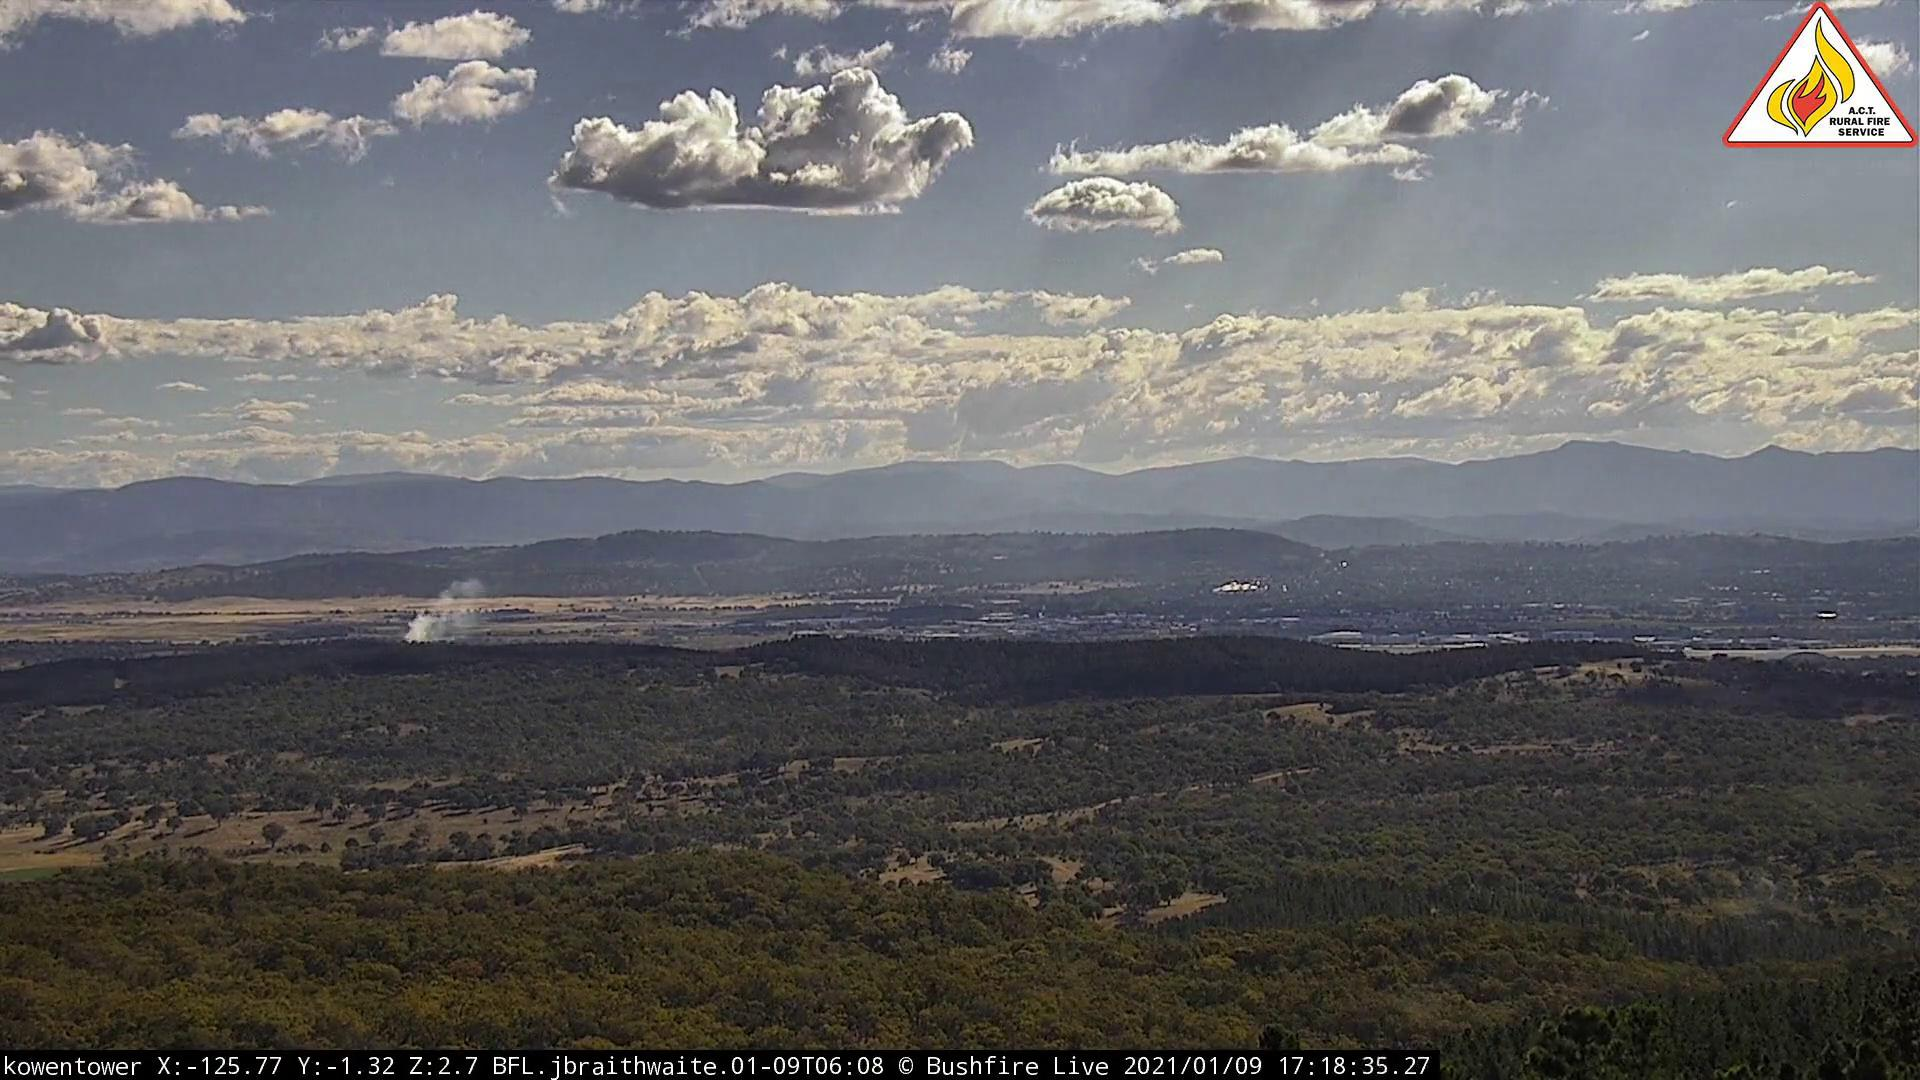Smoke: (396, 579, 487, 653)
